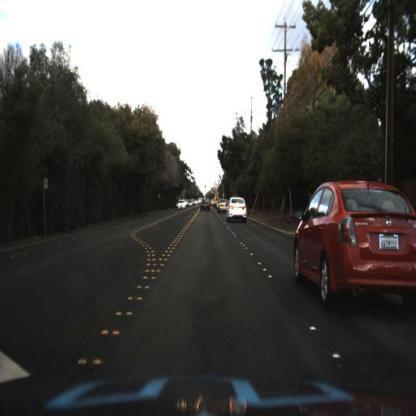car: (293, 177, 414, 306), (226, 197, 250, 227), (215, 197, 231, 217), (199, 197, 212, 216), (178, 197, 190, 213)
